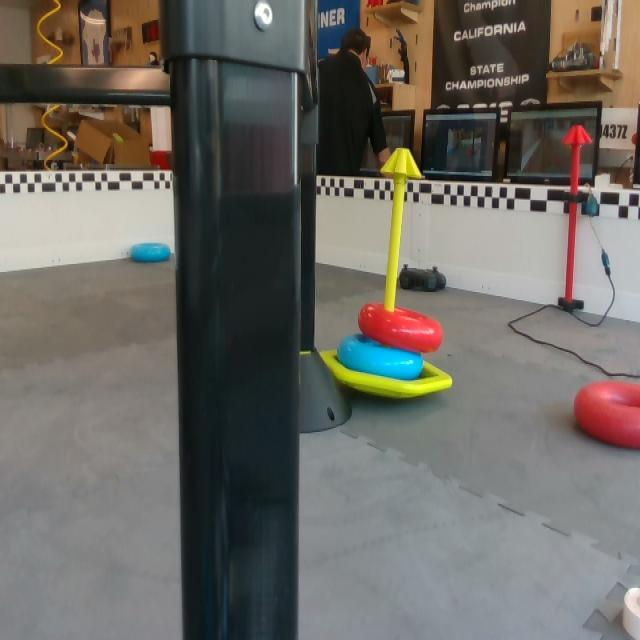Blue-Ring: (337, 340, 422, 376), (129, 240, 172, 267)
Mobile-Goal: (320, 147, 463, 404)
Red-Ring: (571, 377, 639, 449), (358, 302, 446, 350)
Yellow-Stake-Head: (381, 148, 422, 180)
zred-Stake-Head: (563, 125, 592, 145)
